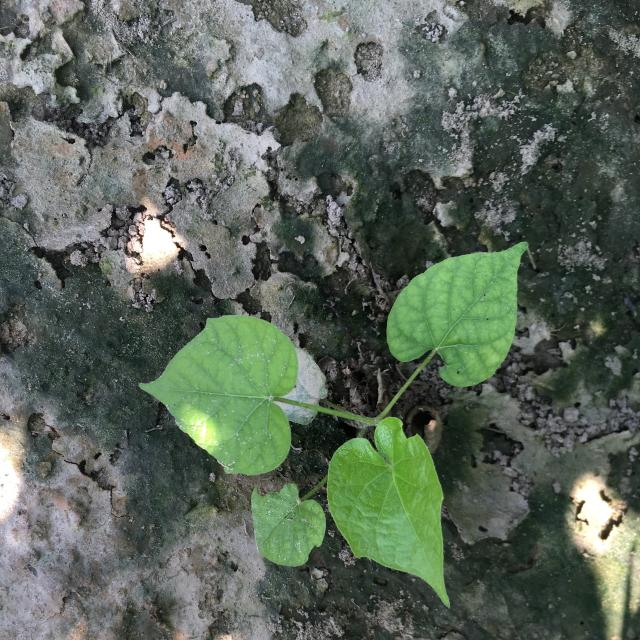MorningGlory: (138, 240, 532, 611)
